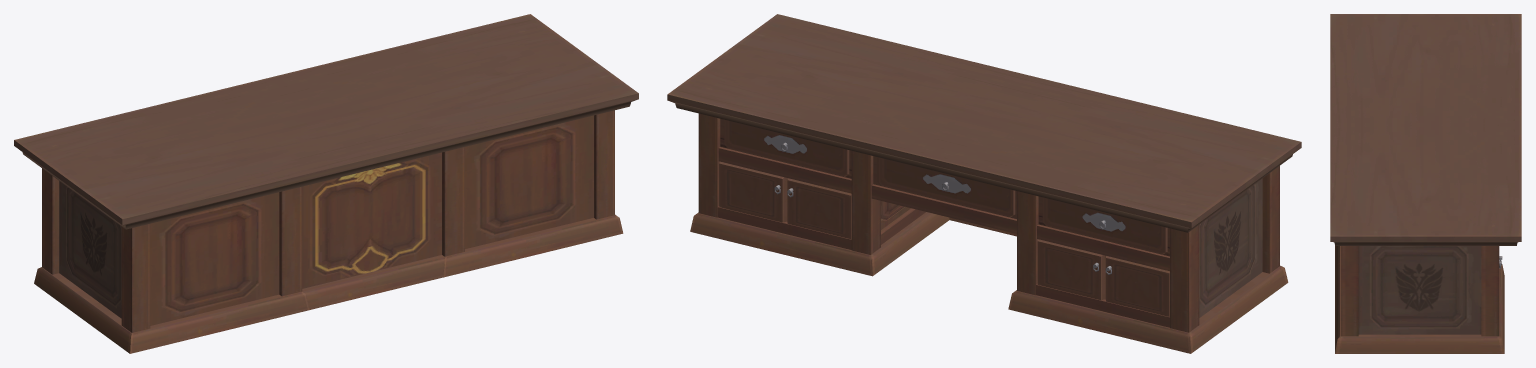
Rendered from Homeworld_Interior_Md_Table_Table_04_Vo.fbx.
3 renders of one model, left to right at view 1: azimuth 30°, elevation 25°; view 2: azimuth 150°, elevation 25°; view 3: azimuth 270°, elevation 25°, orthographic. The views are drawn at different scales.
Parts seen in each view (by area): view 1: Indoor_MdProps_Knightoffice_Table02_Vo; view 2: Indoor_MdProps_Knightoffice_Table02_Vo; view 3: Indoor_MdProps_Knightoffice_Table02_Vo.
Boxes of the visible parts, x1=… form: Indoor_MdProps_Knightoffice_Table02_Vo: x1=14, y1=14, x2=638, y2=353; Indoor_MdProps_Knightoffice_Table02_Vo: x1=667, y1=14, x2=1301, y2=353; Indoor_MdProps_Knightoffice_Table02_Vo: x1=1330, y1=14, x2=1521, y2=353.
Bounding box in the file's own units: 3 × 0.7734 × 1.09.
